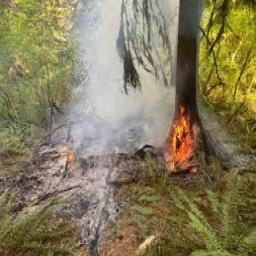Low smoke: (32, 13, 224, 182)
Small fire: (165, 99, 202, 169)
